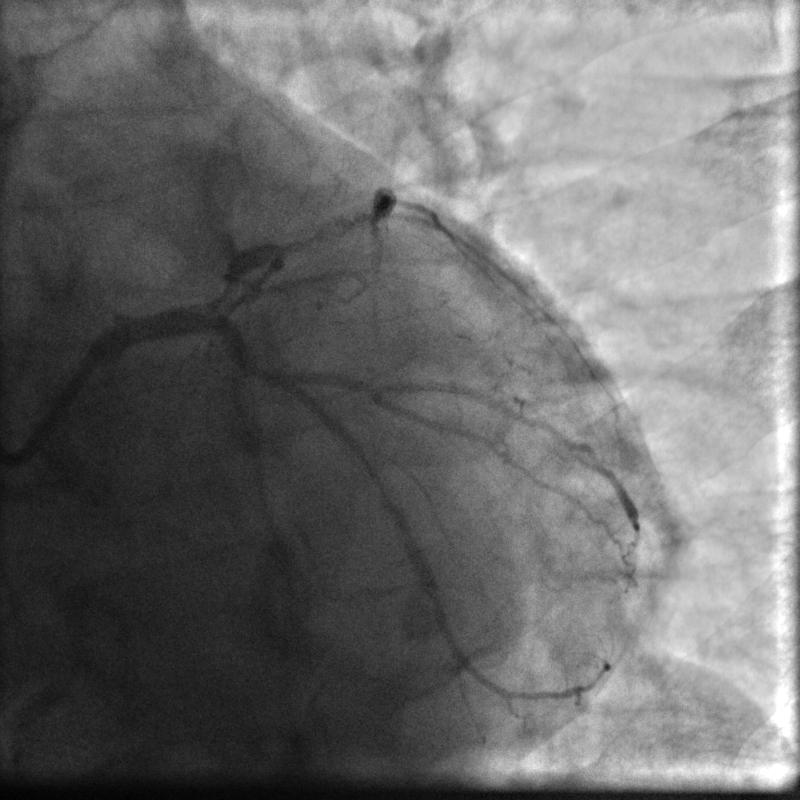Stenosis: (199, 263, 243, 307)
